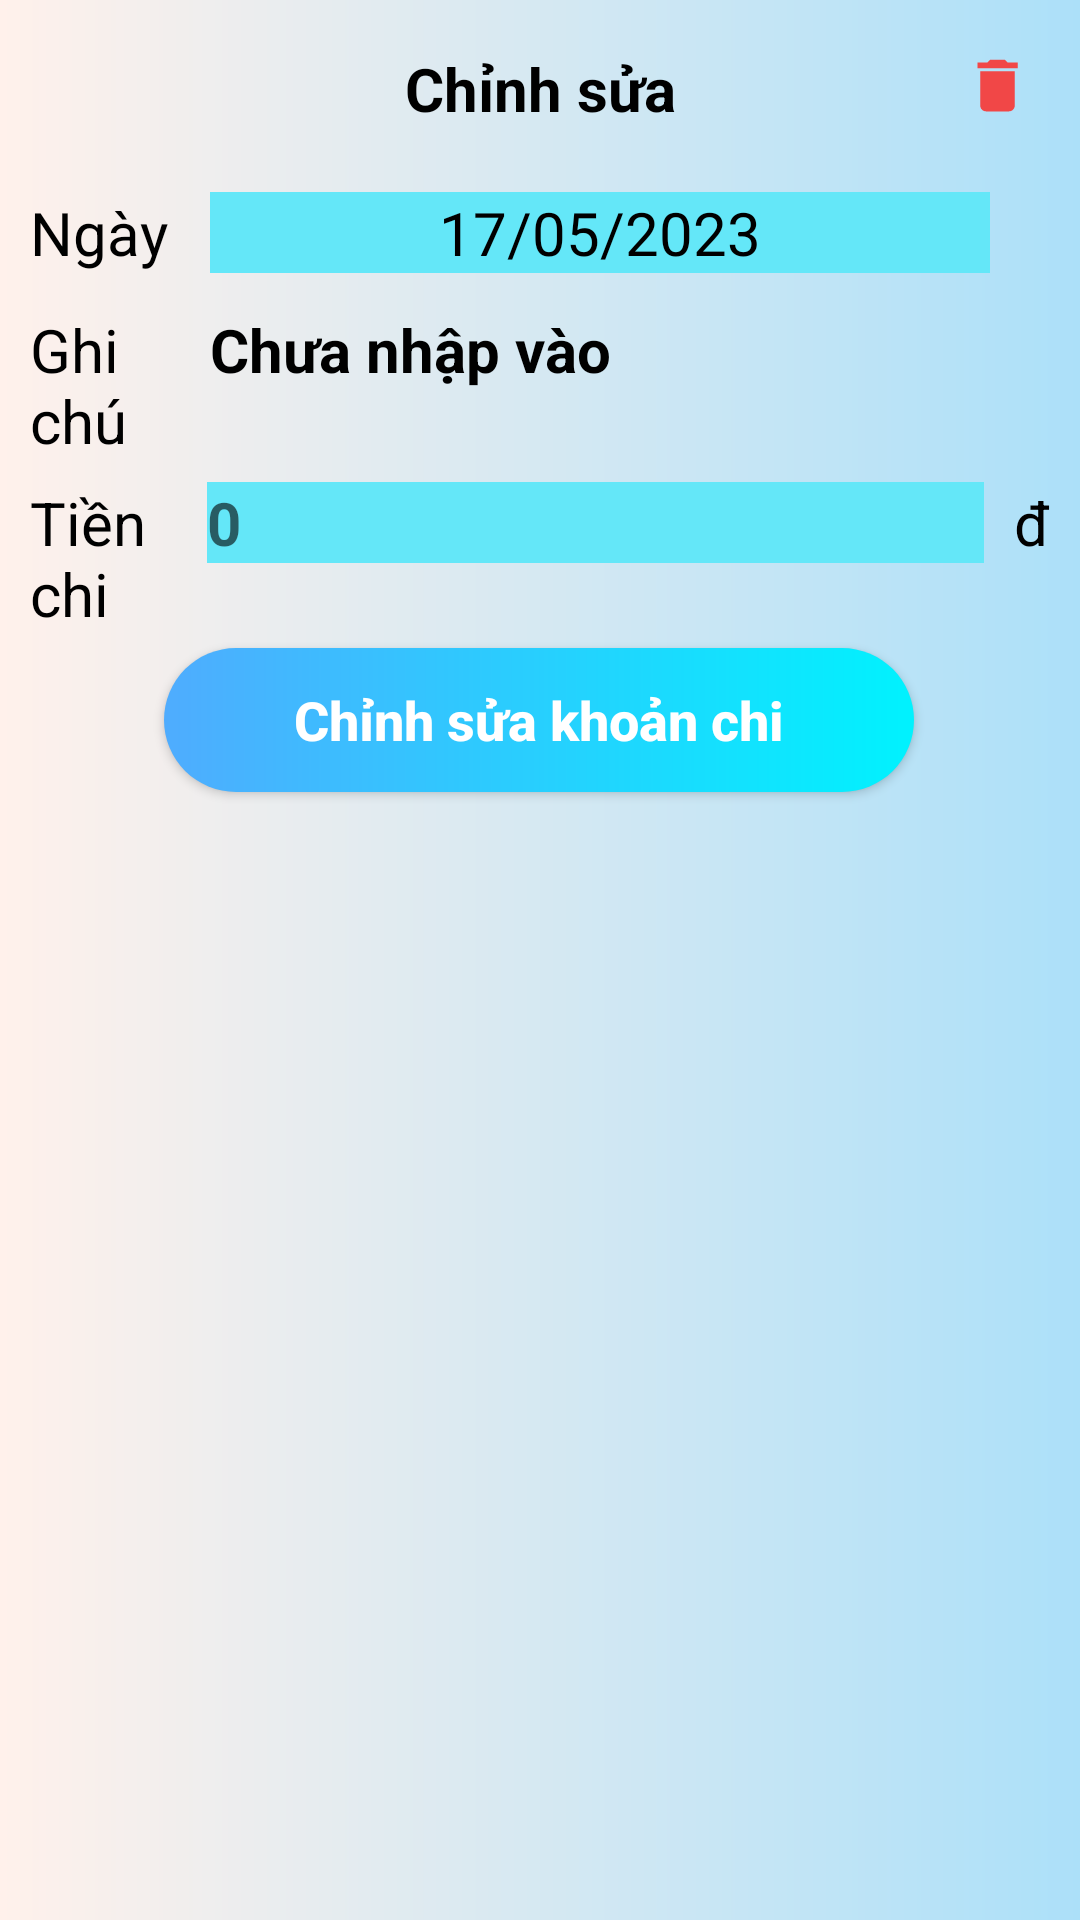

Where icons sit on this 1080 x 1920 app screen, as (x1, y1, x2, y2):
delete: (977, 59, 1018, 112)
